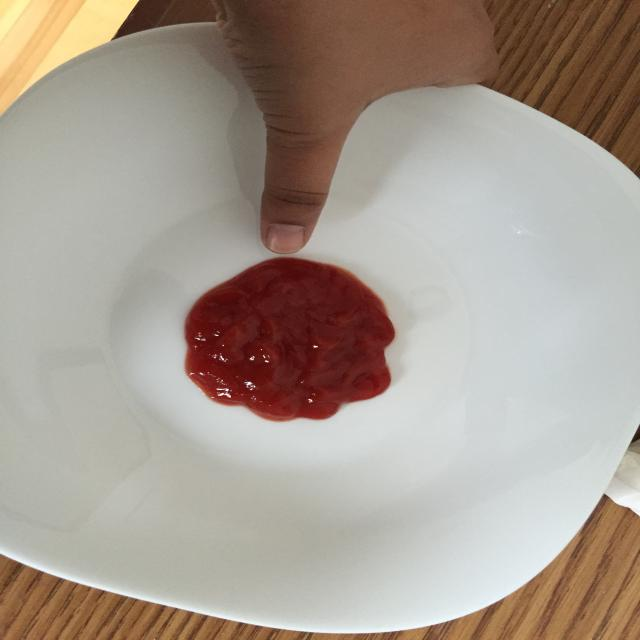sauce: (182, 256, 396, 422)
